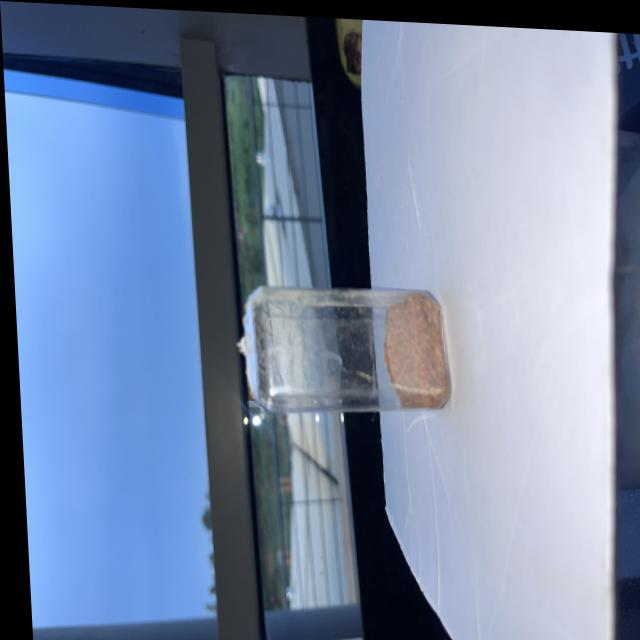maggie_open: (376, 283, 444, 406)
